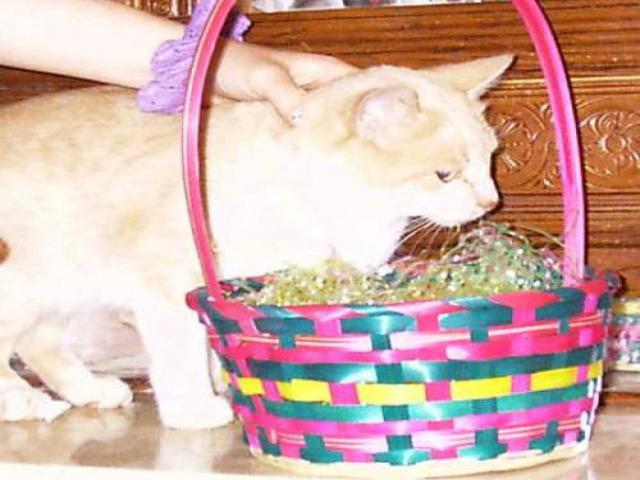cat: (4, 52, 535, 426)
